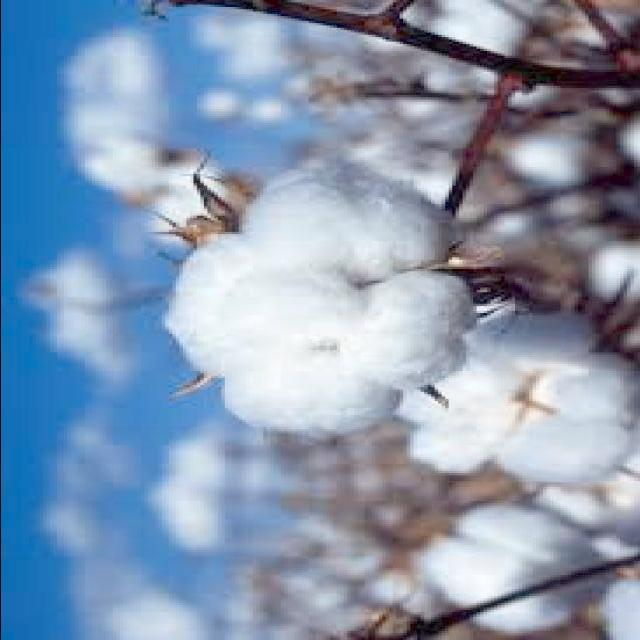Matured Cotton Boll: (156, 162, 476, 438), (398, 303, 640, 489)
